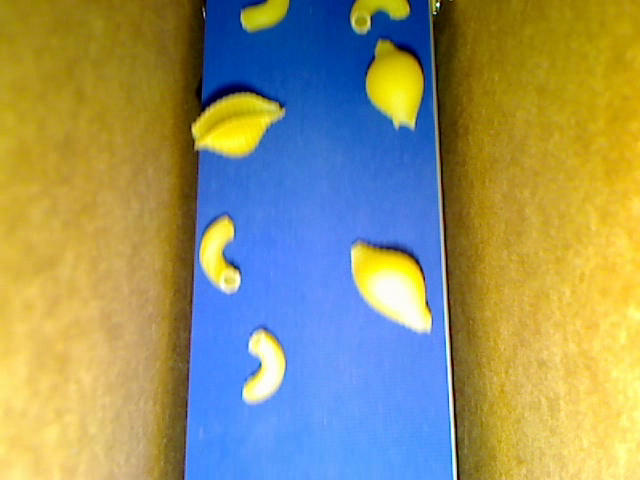elbow: (198, 213, 240, 294), (241, 327, 285, 403), (350, 1, 410, 35), (240, 1, 289, 35), (330, 243, 332, 245)
shell: (350, 240, 433, 334), (189, 92, 285, 158), (366, 39, 426, 131)
